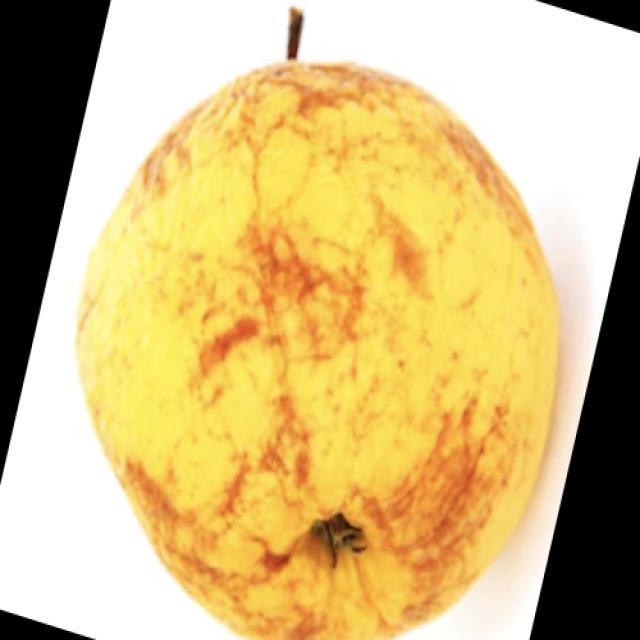Rotten: (103, 61, 563, 640)
